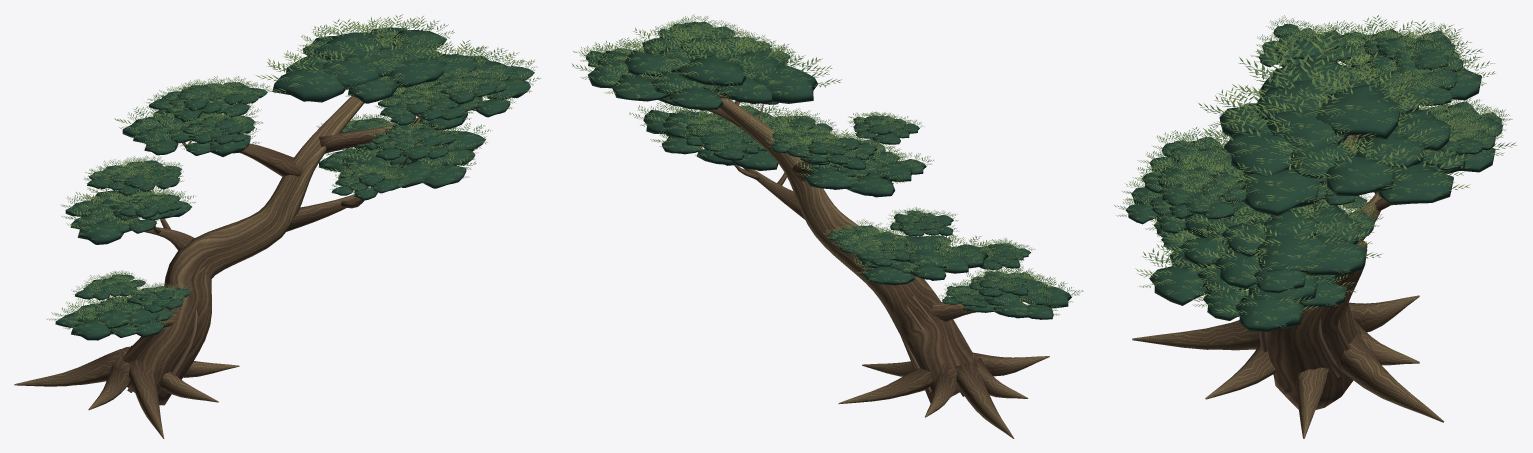
The picture shows the model from 3 angles, left to right: view 1: azimuth 30°, elevation 25°; view 2: azimuth 150°, elevation 25°; view 3: azimuth 270°, elevation 25°; orthographic projection. The views are drawn at different scales.
Visible parts, largest first — view 1: Crown_mass, Outer_foliage, Weathered_bark; view 2: Crown_mass, Outer_foliage, Weathered_bark; view 3: Crown_mass, Outer_foliage, Weathered_bark, Sunlit_bark_ridges.
Part boxes in pixels (x1,y1,x2,y2): Crown_mass: (55,27,534,340); Outer_foliage: (47,14,540,334); Weathered_bark: (14,87,491,438); Crown_mass: (586,21,1071,319); Outer_foliage: (571,14,1083,316); Weathered_bark: (668,85,1049,438); Crown_mass: (1126,24,1502,331); Outer_foliage: (1114,15,1516,327); Weathered_bark: (1132,61,1444,438); Sunlit_bark_ridges: (1259,317,1350,377).
Bounding box in the file's own units: 9.71 × 5.89 × 4.51.
4 materials, 1 textured.
